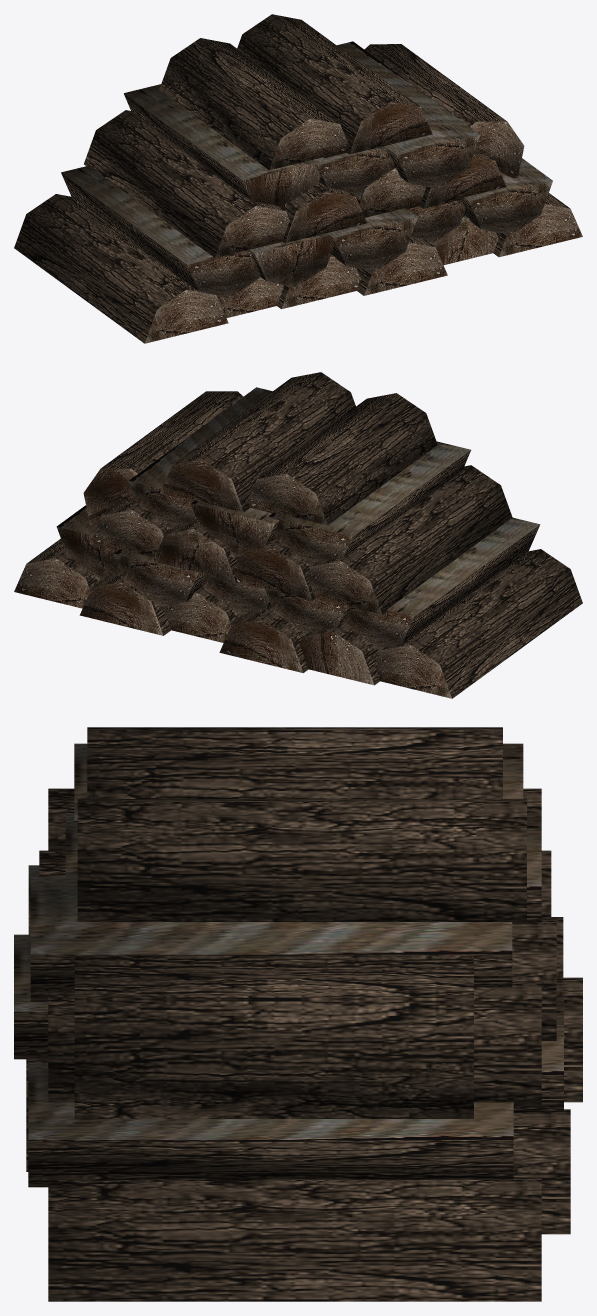
The model's file is Logs.fbx.
3 views of the same model, one above another, from view 1: azimuth 30°, elevation 25°; view 2: azimuth 150°, elevation 25°; view 3: azimuth 270°, elevation 25° (orthographic). The views are drawn at different scales.
Visible parts, largest first — view 1: Logs; view 2: Logs; view 3: Logs.
Part boxes in pixels (x1,y1,x2,y2): Logs: [14, 14, 582, 343]; Logs: [14, 372, 582, 698]; Logs: [14, 727, 582, 1301].
Bounding box in the file's own units: 1.25 × 0.4772 × 0.7459.
